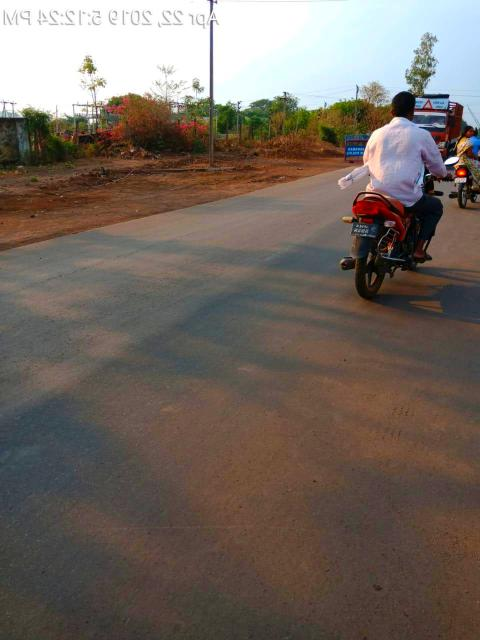motor: (339, 169, 455, 303)
non-helm: (390, 92, 418, 122)
